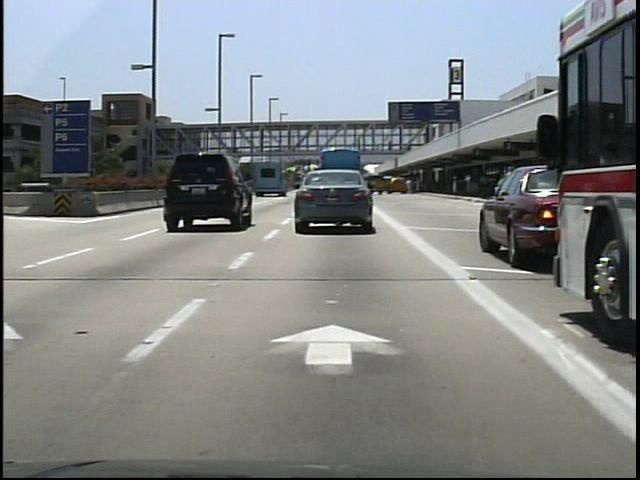person: (401, 175, 415, 199), (384, 136, 397, 158), (351, 136, 364, 156)
